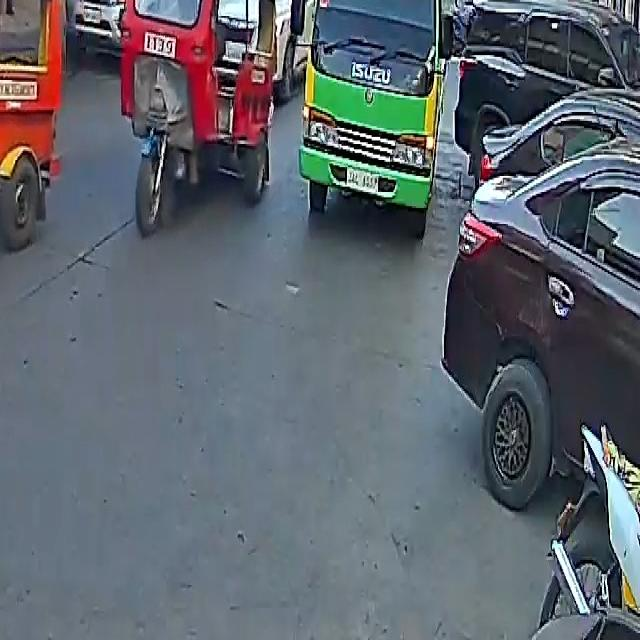car: (442, 58, 640, 533), (452, 0, 640, 174), (67, 0, 134, 55)
